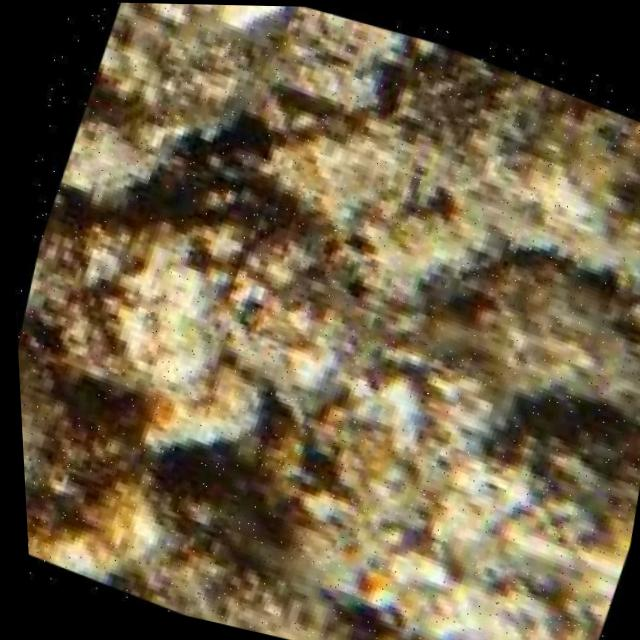Bleached Coral: (86, 230, 284, 460)
